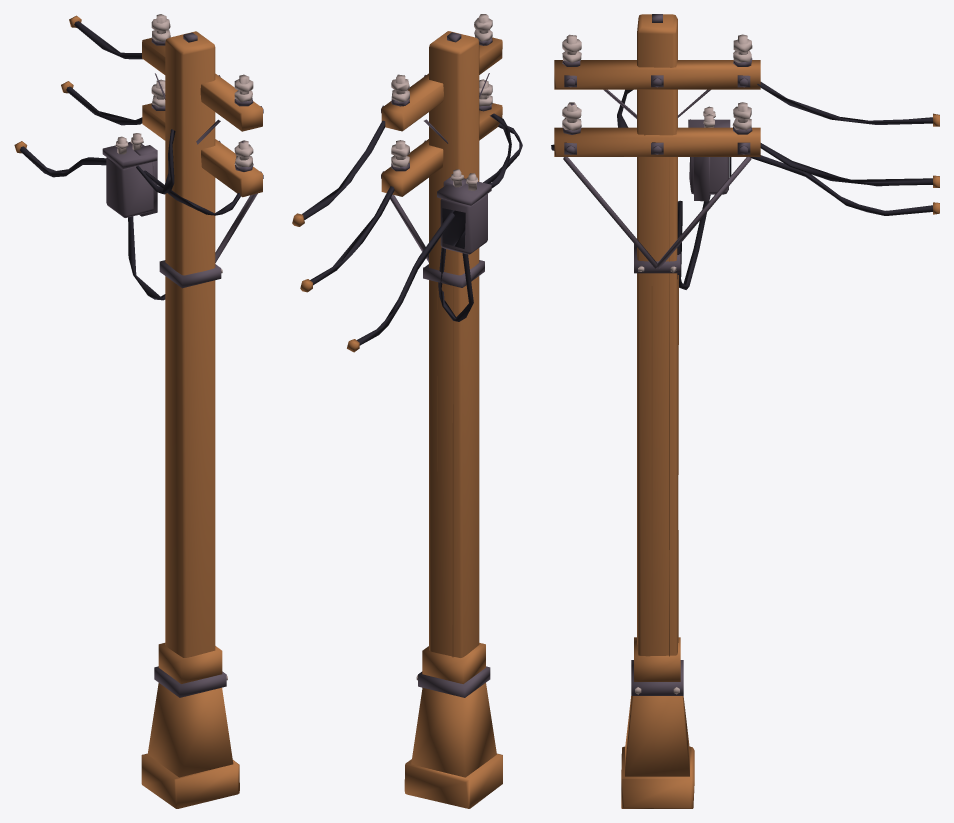
The model's file is prop.utility-pole.lod1.glb.
3 renders of one model, left to right at view 1: azimuth 30°, elevation 25°; view 2: azimuth 150°, elevation 25°; view 3: azimuth 270°, elevation 25°, orthographic. The views are drawn at different scales.
Size of the model in its own units: 0.851 by 7.14 by 3.23.
